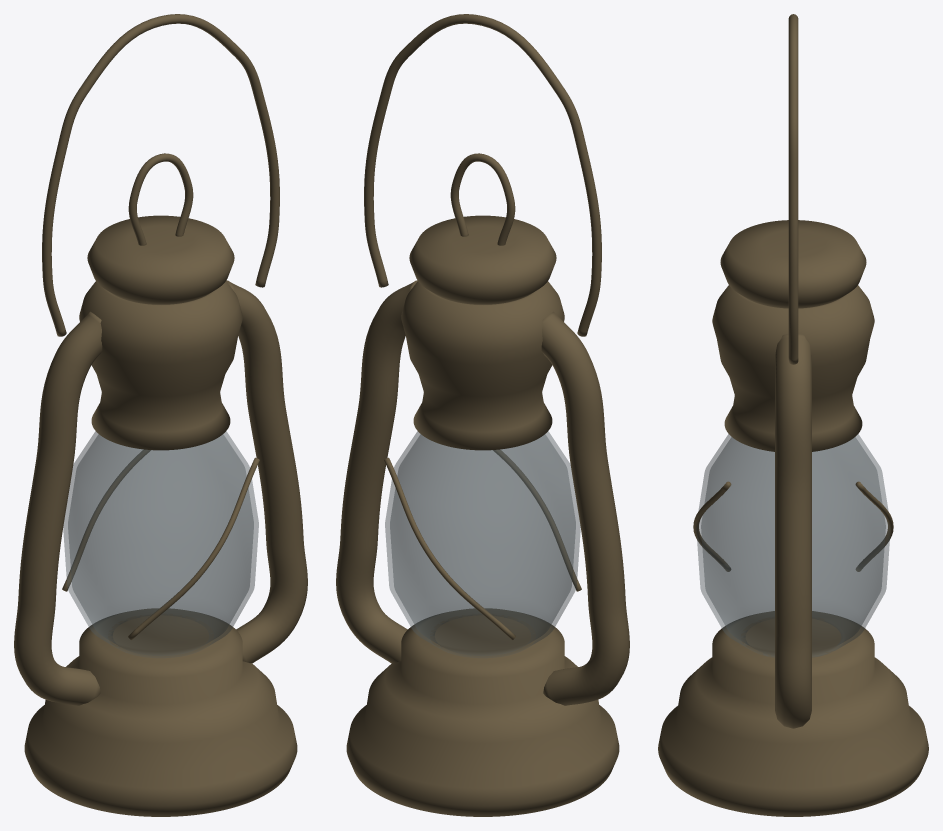
File: result.glb
The picture shows the model from 3 angles, left to right: view 1: azimuth 30°, elevation 25°; view 2: azimuth 150°, elevation 25°; view 3: azimuth 270°, elevation 25°; orthographic projection.
Visible parts, largest first — view 1: Fuel base, Globe, Chimney, Cage -1, Cage 1, Top cap, handle, Small cap loop, Cross guard 1, Cross guard -1; view 2: Fuel base, Globe, Chimney, Cage -1, Cage 1, Top cap, handle, Small cap loop, Cross guard -1, Cross guard 1; view 3: Fuel base, Globe, Chimney, Cage 1, Top cap, handle, Cross guard -1, Cross guard 1.
Boxes of the visible parts, x1,y1,x2,y2 form: Fuel base: [24, 608, 297, 816]; Globe: [63, 431, 258, 657]; Chimney: [79, 281, 242, 450]; Cage -1: [14, 311, 102, 705]; Cage 1: [226, 280, 307, 663]; Top cap: [87, 215, 234, 304]; handle: [42, 14, 279, 336]; Small cap loop: [128, 153, 193, 245]; Cross guard 1: [128, 457, 259, 640]; Cross guard -1: [62, 450, 150, 591]; Fuel base: [346, 608, 619, 816]; Globe: [385, 431, 580, 657]; Chimney: [401, 281, 564, 450]; Cage -1: [541, 311, 629, 705]; Cage 1: [336, 280, 417, 663]; Top cap: [409, 215, 556, 304]; handle: [364, 14, 601, 336]; Small cap loop: [450, 153, 515, 245]; Cross guard -1: [384, 457, 515, 640]; Cross guard 1: [493, 450, 581, 591]; Fuel base: [658, 611, 928, 816]; Globe: [696, 434, 890, 657]; Chimney: [712, 285, 874, 451]; Cage 1: [775, 334, 811, 728]; Top cap: [720, 220, 866, 308]; handle: [788, 14, 798, 364]; Cross guard -1: [855, 481, 893, 571]; Cross guard 1: [693, 481, 731, 571].
Size of the model in its own units: 0.4082 by 1.01 by 0.334.
Materials: 10 (10 with a texture image).
